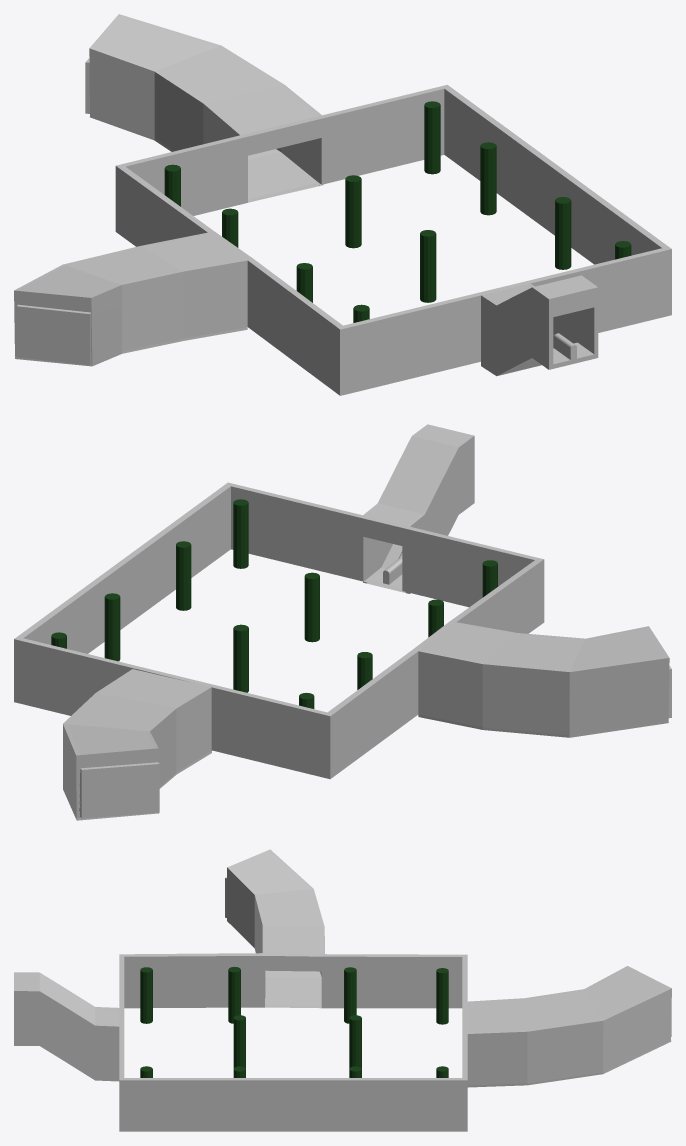
The model's file is level-1_Paredes_Pilares.fbx.
3 renders of one model, top to bottom at view 1: azimuth 30°, elevation 25°; view 2: azimuth 150°, elevation 25°; view 3: azimuth 270°, elevation 25°, orthographic. The views are drawn at different scales.
Parts seen in each view (by area): view 1: paredes; view 2: paredes; view 3: paredes.
Boxes of the visible parts, x1,y1,x2,y2 form: paredes: (14, 14, 671, 395); paredes: (14, 424, 671, 820); paredes: (14, 849, 671, 1131).
Size of the model in its own units: 7983 by 1587 by 10457.
